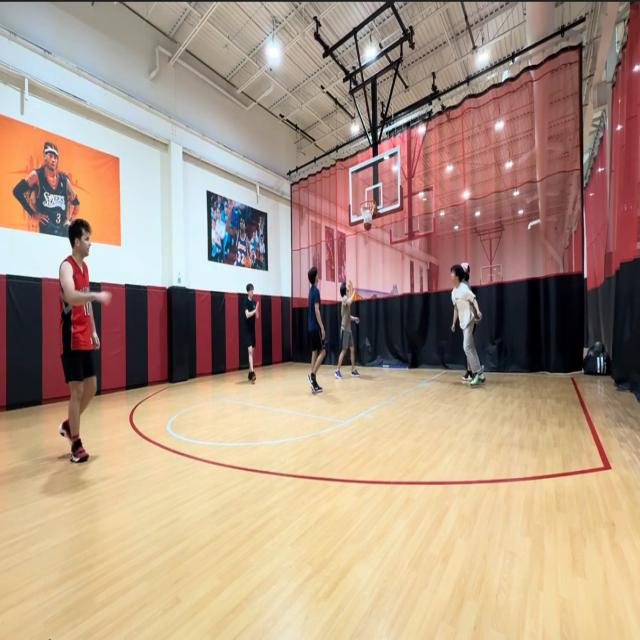Basketball: (364, 222, 372, 231)
Basketball Rim: (360, 200, 376, 220)
Player: (58, 219, 113, 463), (450, 264, 486, 388), (334, 282, 361, 380), (307, 267, 326, 393), (242, 283, 259, 385)
